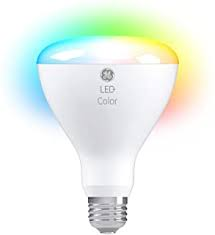bulb: (28, 19, 188, 175)
